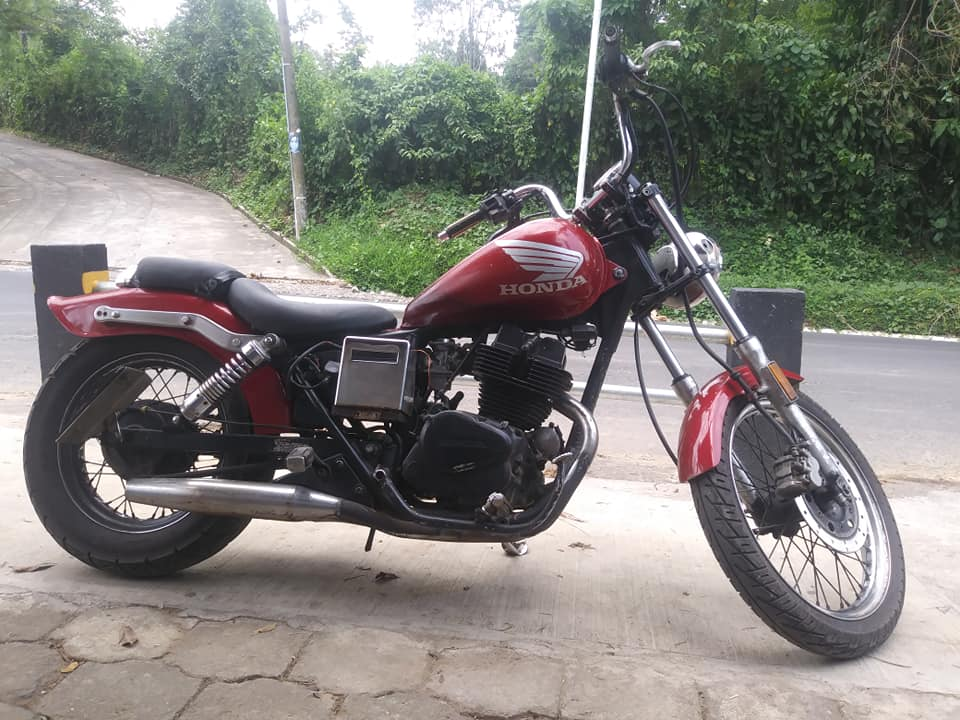moto: (26, 30, 909, 657)
